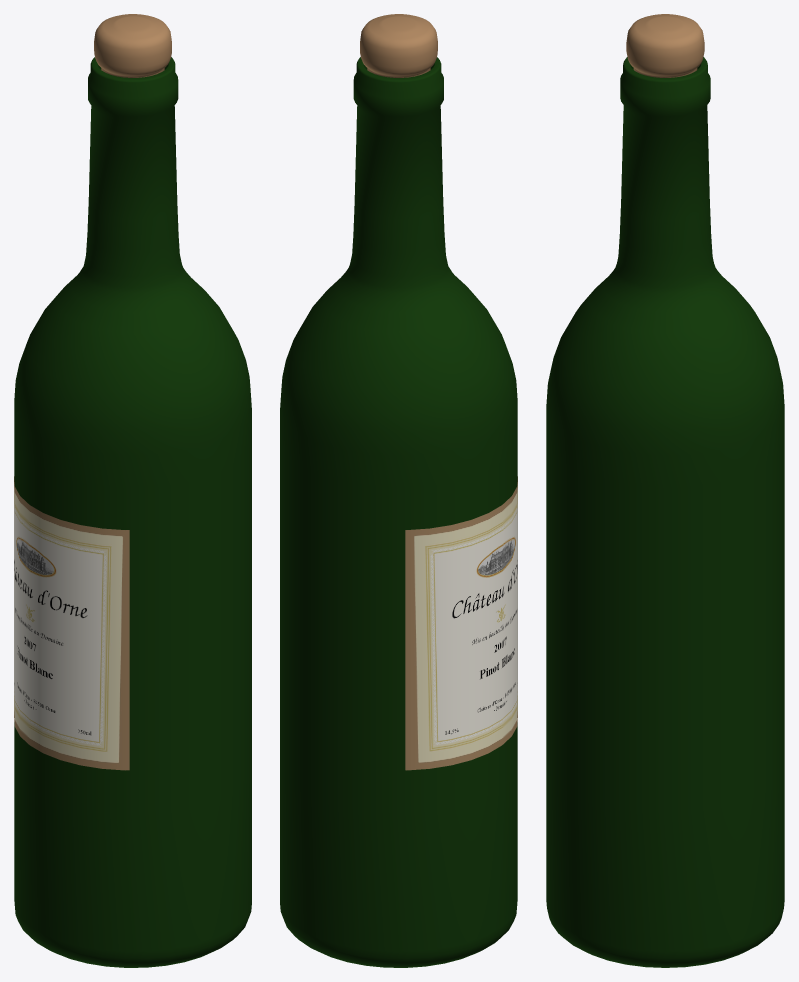
The model's file is Wine_Bottle_White.dae.
The picture shows the model from 3 angles, left to right: view 1: azimuth 30°, elevation 25°; view 2: azimuth 150°, elevation 25°; view 3: azimuth 270°, elevation 25°; orthographic projection.
Visible parts, largest first — view 1: Wine_Bottle_White, Wine_Bottle_White_Label, Wine_Bottle_White_Cork; view 2: Wine_Bottle_White, Wine_Bottle_White_Label, Wine_Bottle_White_Cork; view 3: Wine_Bottle_White, Wine_Bottle_White_Cork.
Part boxes in pixels (left/top/right/bottom): Wine_Bottle_White: left=14, top=57, right=251, bottom=967; Wine_Bottle_White_Label: left=14, top=476, right=129, bottom=770; Wine_Bottle_White_Cork: left=94, top=14, right=171, bottom=77; Wine_Bottle_White: left=280, top=57, right=517, bottom=967; Wine_Bottle_White_Label: left=405, top=476, right=517, bottom=770; Wine_Bottle_White_Cork: left=360, top=14, right=437, bottom=77; Wine_Bottle_White: left=546, top=57, right=784, bottom=967; Wine_Bottle_White_Cork: left=626, top=14, right=704, bottom=77.
Bounding box in the file's own units: 0.0746 × 0.0746 × 0.3113.
4 materials, 1 textured.
